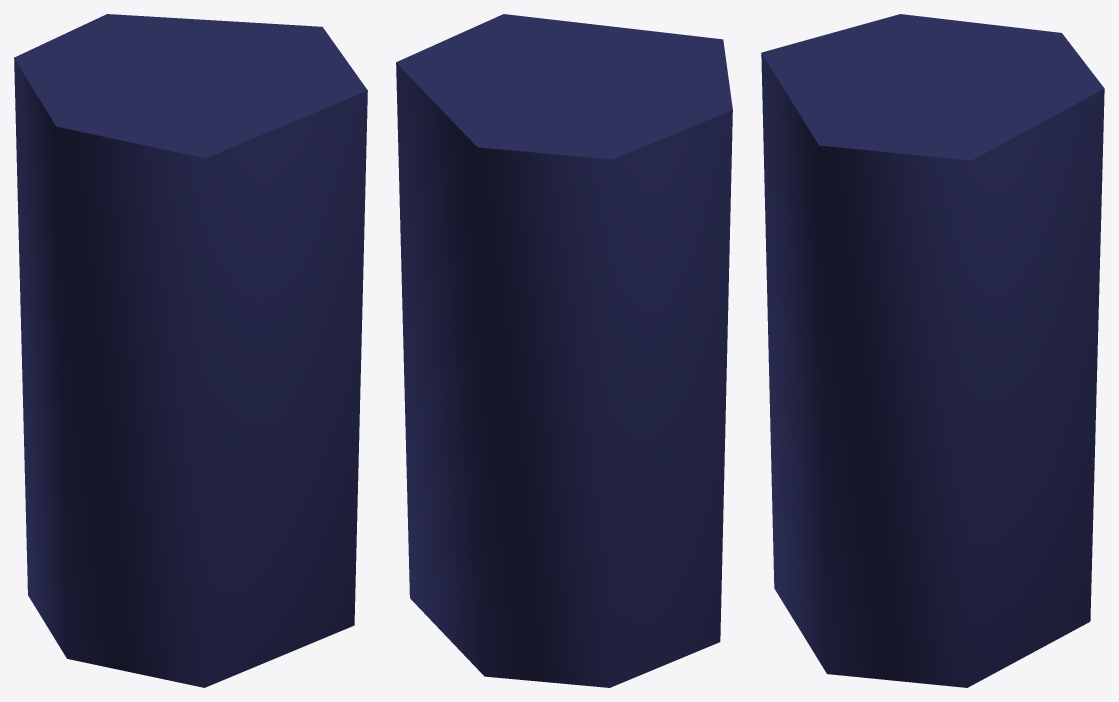
File: Platform2LOD.fbx
3 renders of one model, left to right at view 1: azimuth 30°, elevation 25°; view 2: azimuth 150°, elevation 25°; view 3: azimuth 270°, elevation 25°, orthographic.
Visible parts, largest first — view 1: platform2; view 2: platform2; view 3: platform2.
Boxes of the visible parts, x1,y1,x2,y2 form: platform2: (14, 14, 367, 687); platform2: (396, 14, 732, 687); platform2: (761, 14, 1104, 687).
Size of the model in its own units: 229 by 389 by 227.
